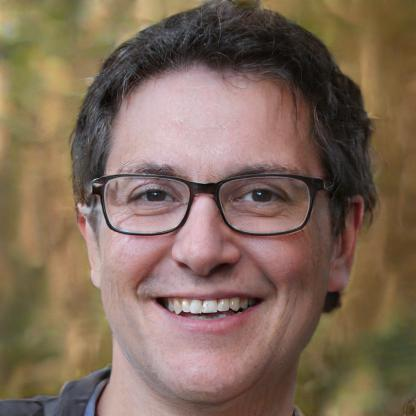glasses: (90, 169, 326, 237)
